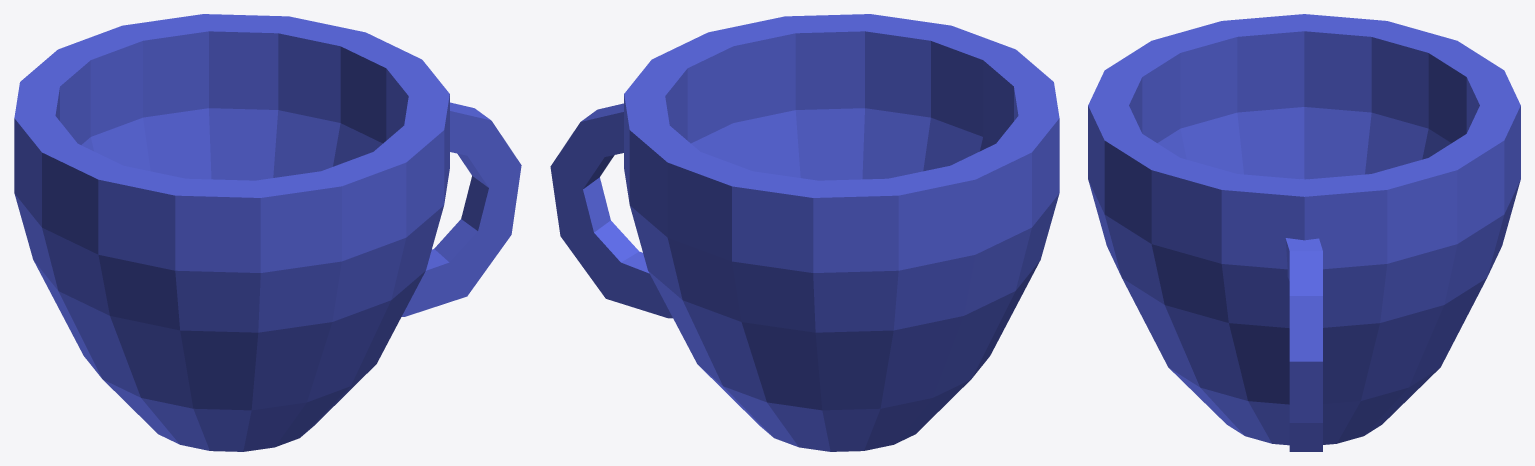
File: cup.fbx
The picture shows the model from 3 angles, left to right: view 1: azimuth 30°, elevation 25°; view 2: azimuth 150°, elevation 25°; view 3: azimuth 270°, elevation 25°; orthographic projection.
Parts seen in each view (by area): view 1: Cup; view 2: Cup; view 3: Cup.
Boxes of the visible parts, bbox=[...] form: Cup: bbox=[14, 14, 521, 451]; Cup: bbox=[550, 14, 1059, 451]; Cup: bbox=[1088, 14, 1520, 451].
Bounding box in the file's own units: 103 × 64.56 × 82.84.
